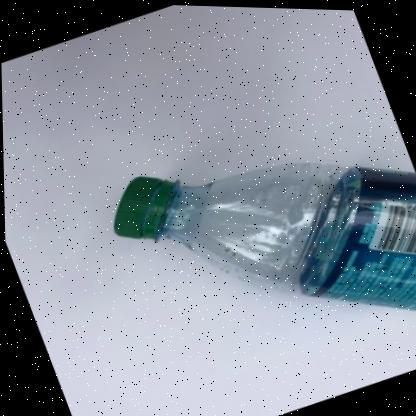Plastic: (112, 160, 416, 308)
